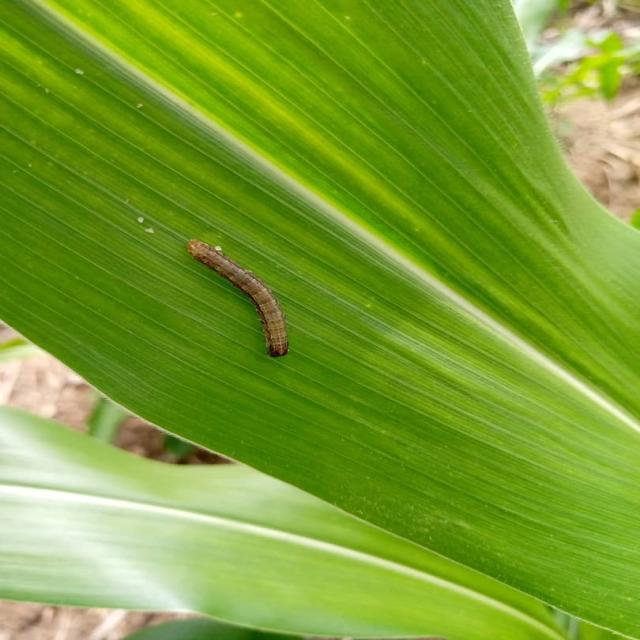yellow-stem-borer-larva: (166, 223, 323, 382)
